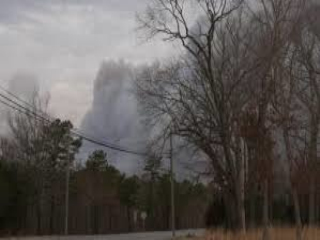smoke: (80, 47, 217, 185)
